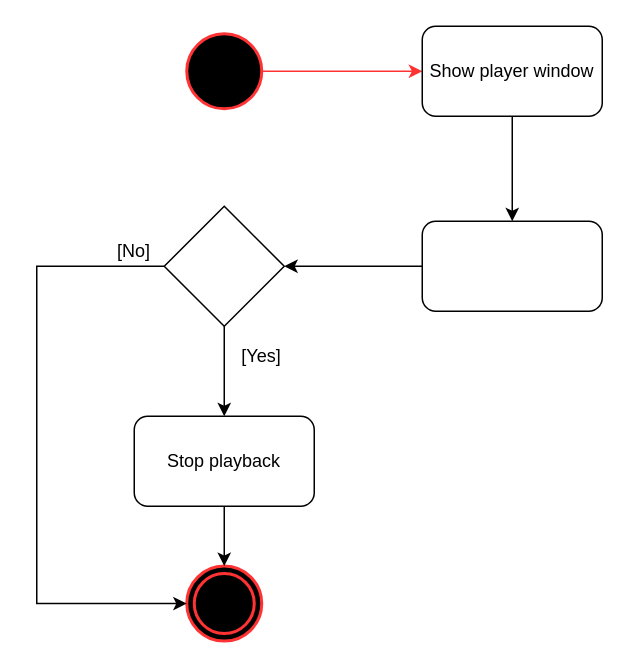
The diagram is 629 pixels wide and 669 high, and some of its shapes have lost their labels. The box of each missing label's shape, as (x1, y1, x2, y2) in pixels:
File selected: (163, 205, 284, 326)
Press button "Stop": (421, 220, 602, 311)
